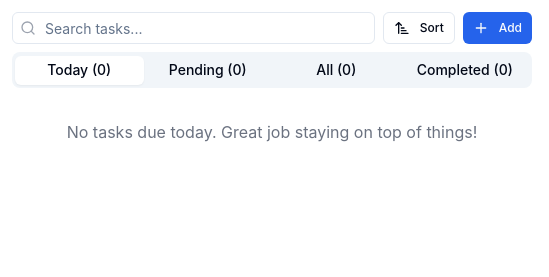
Test case: TaskList › handles sort functionality
Click the button "Sort": [419, 28] box [383, 12, 455, 44]
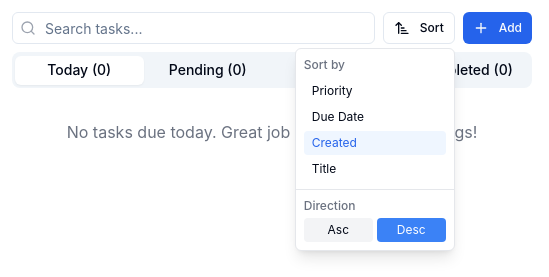
Check: the text "Sort by" is shown, box [304, 57, 345, 72]
